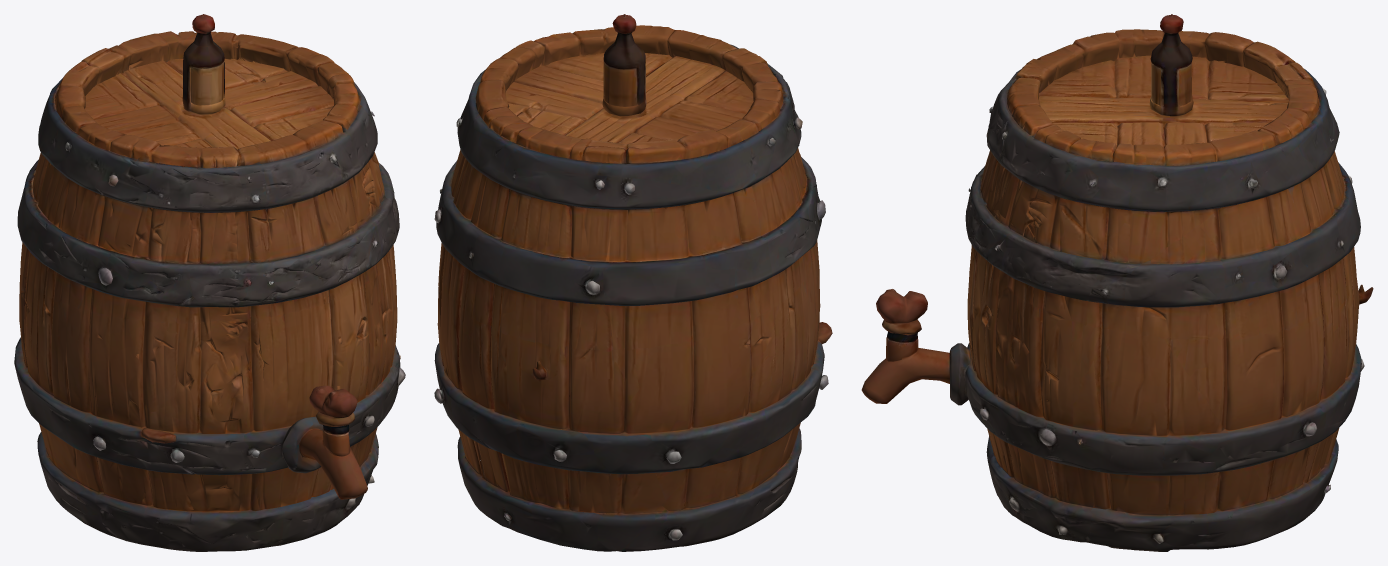
The model's file is barril-ron.glb.
3 views of the same model, side by side, from view 1: azimuth 30°, elevation 25°; view 2: azimuth 150°, elevation 25°; view 3: azimuth 270°, elevation 25° (orthographic).
Size of the model in its own units: 0.7216 by 0.9786 by 0.9554.
Materials: 1 (1 with a texture image).
